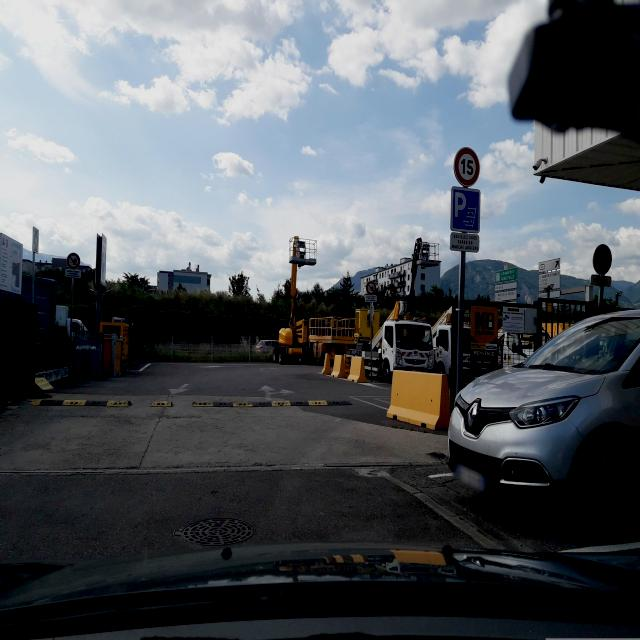car: (447, 305, 640, 537), (255, 339, 278, 352)
